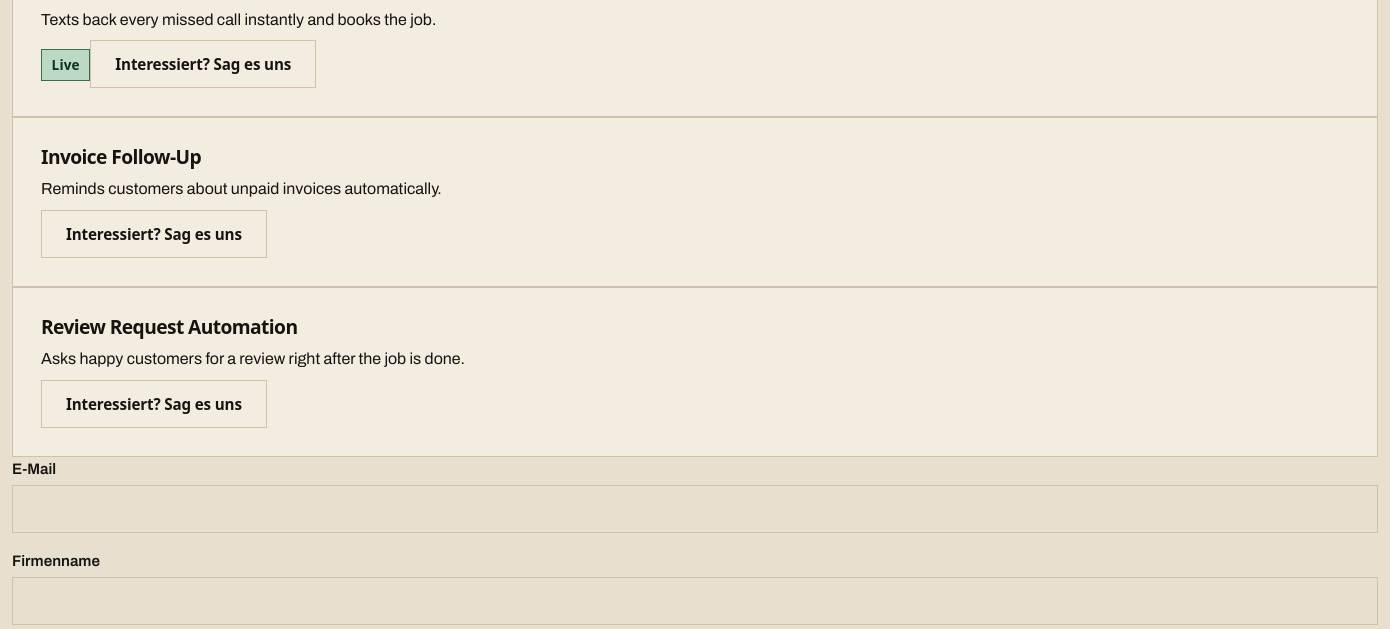
Test case: MarketplaceTestPage › pre-fills the automation of interest when a listing's "Interested? Tell us" link is clicked
Click the button "Interessiert? Sag es uns" next to "Live" at (203, 64), box top-left (90, 40), bottom-right (316, 88)
(page scrolled)
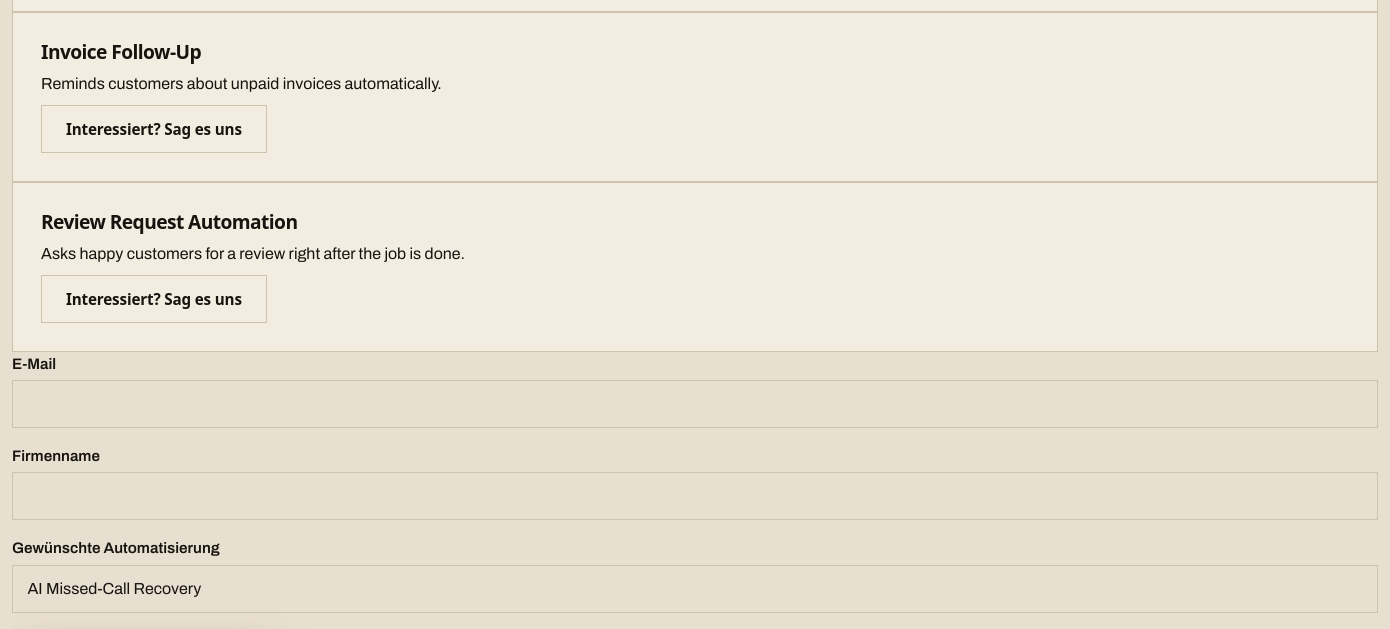
expect the field labelled "Gewünschte Automatisierung" holds "AI Missed-Call Recovery": met, box top-left (12, 565), bottom-right (1378, 613)
